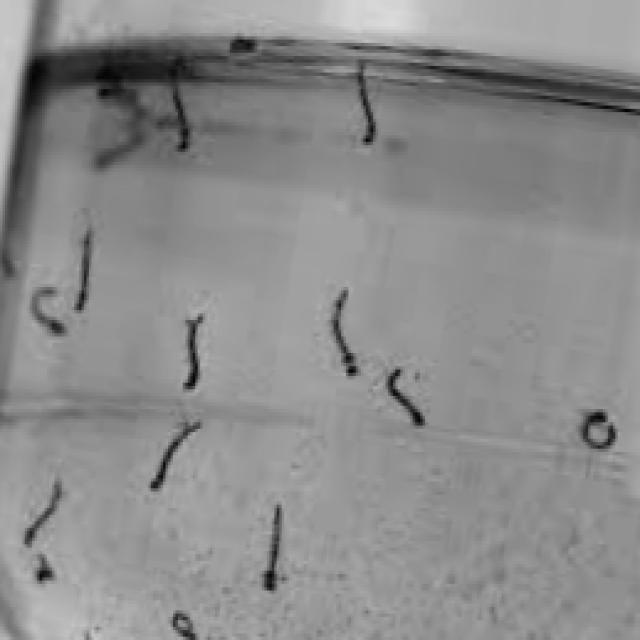larvas: (148, 410, 204, 493), (22, 477, 67, 553), (330, 287, 357, 375), (387, 370, 423, 428), (97, 133, 145, 169), (170, 68, 190, 153), (28, 288, 64, 335), (265, 502, 283, 592), (99, 84, 144, 119), (359, 68, 378, 144), (582, 409, 614, 450), (184, 318, 202, 390), (77, 225, 89, 309), (172, 611, 196, 640), (34, 555, 52, 581)
